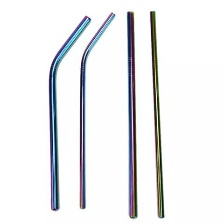drinking_straw: (39, 10, 93, 213), (74, 8, 121, 212), (144, 7, 172, 220), (120, 8, 140, 220)
